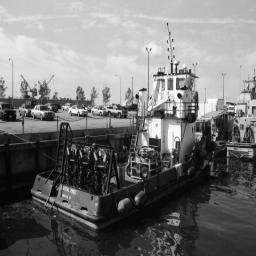tugboat: (30, 47, 217, 242)
